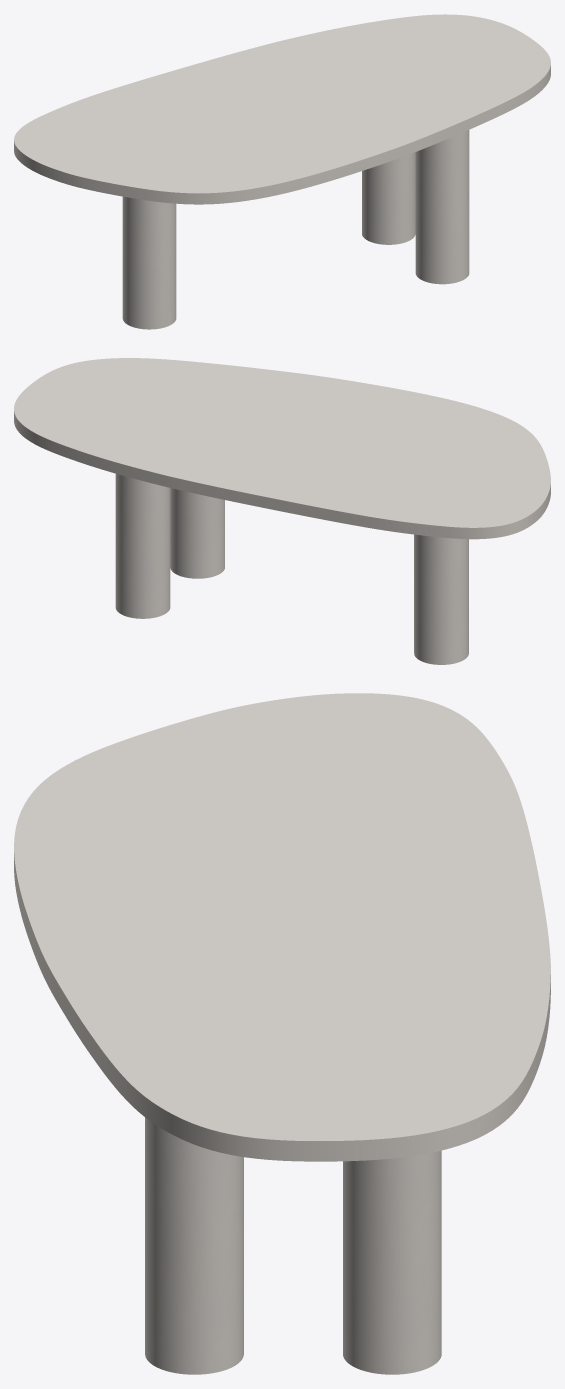
Rendered from pearlwhite_leaf2_standard_cylinder.glb.
The picture shows the model from 3 angles, top to bottom: view 1: azimuth 30°, elevation 25°; view 2: azimuth 150°, elevation 25°; view 3: azimuth 270°, elevation 25°; orthographic projection. The views are drawn at different scales.
Parts seen in each view (by area): view 1: standard_leaf2, cylinder; view 2: standard_leaf2, cylinder; view 3: standard_leaf2, cylinder.
Part boxes in pixels (<box>): standard_leaf2: <box>14,14,550,204</box>; cylinder: <box>122,130,469,329</box>; standard_leaf2: <box>14,358,550,539</box>; cylinder: <box>115,474,468,664</box>; standard_leaf2: <box>14,693,550,1161</box>; cylinder: <box>145,1117,441,1374</box>.
Size of the model in its own units: 7.5 by 2.54 by 3.8.
Materials: 1 (1 with a texture image).
